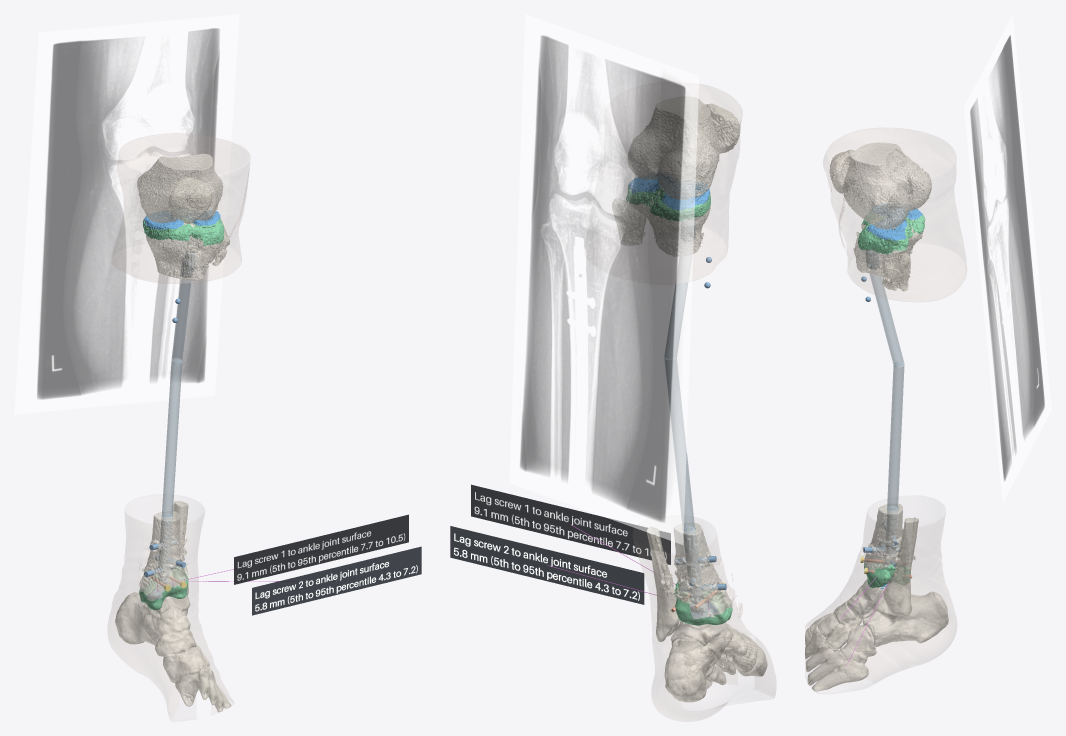
3 renders of one model, left to right at view 1: azimuth 30°, elevation 25°; view 2: azimuth 150°, elevation 25°; view 3: azimuth 270°, elevation 25°, orthographic. The views are drawn at different scales.
Parts seen in each view (by area): view 1: radiograph, skin, tibia, implant_8, implant_16, tarsal, femur, nail_modelled, patella, metatarsal, capsule_band_knee, nail (+3 smaller); view 2: radiograph, skin, femur, implant_17, implant_9, tibia, tarsal, nail_modelled, fibula, capsule_band_knee, metatarsal, nail (+3 smaller); view 3: radiograph, skin, tarsal, femur, tibia, fibula, nail_modelled, metatarsal, capsule_band_knee, articular_surface_knee, nail, capsule_band_ankle (+1 smaller).
Part boxes in pixels (x1,y1,x2,y2): radiograph: [14, 14, 239, 414]; skin: [108, 133, 249, 720]; tibia: [139, 218, 222, 610]; implant_8: [234, 514, 408, 584]; implant_16: [252, 546, 421, 615]; tarsal: [115, 589, 209, 682]; femur: [137, 153, 223, 223]; nail_modelled: [162, 279, 191, 517]; patella: [168, 177, 212, 223]; metatarsal: [175, 664, 231, 712]; capsule_band_knee: [143, 211, 224, 245]; nail: [158, 252, 195, 583]; radiograph: [509, 14, 699, 544]; skin: [633, 84, 775, 721]; femur: [627, 96, 719, 199]; implant_17: [450, 526, 644, 604]; implant_9: [471, 484, 670, 564]; tibia: [627, 186, 732, 624]; tarsal: [664, 603, 757, 702]; nail_modelled: [664, 255, 694, 531]; fibula: [612, 198, 679, 641]; capsule_band_knee: [626, 181, 710, 221]; metatarsal: [697, 639, 767, 689]; nail: [681, 218, 702, 604]; radiograph: [964, 15, 1051, 502]; skin: [805, 128, 966, 684]; tarsal: [810, 579, 948, 663]; femur: [842, 142, 931, 229]; tibia: [853, 218, 923, 587]; fibula: [882, 252, 918, 616]; nail_modelled: [869, 273, 904, 510]; metatarsal: [805, 627, 868, 691]; capsule_band_knee: [858, 211, 925, 254]; articular_surface_knee: [867, 204, 922, 240]; nail: [866, 250, 897, 566]; capsule_band_ankle: [864, 563, 910, 587].
Bounding box in the file's own units: 0.3223 × 0.6299 × 0.2232.
15 materials, 3 textured.
